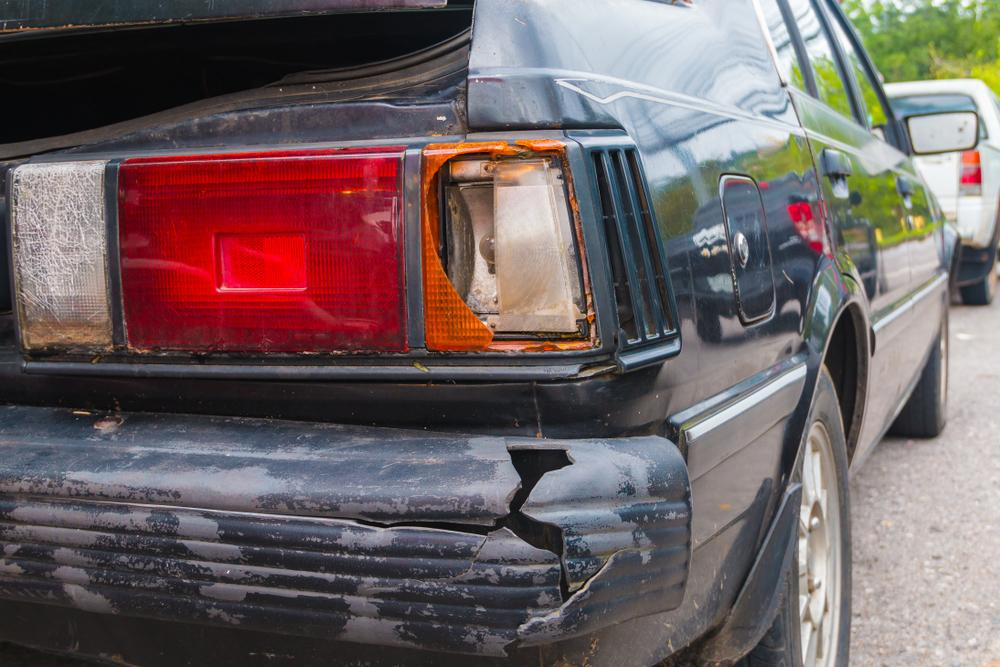crack: (348, 445, 624, 650)
lamp broken: (421, 138, 600, 349)
